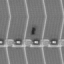dust: (30, 26, 37, 35)
